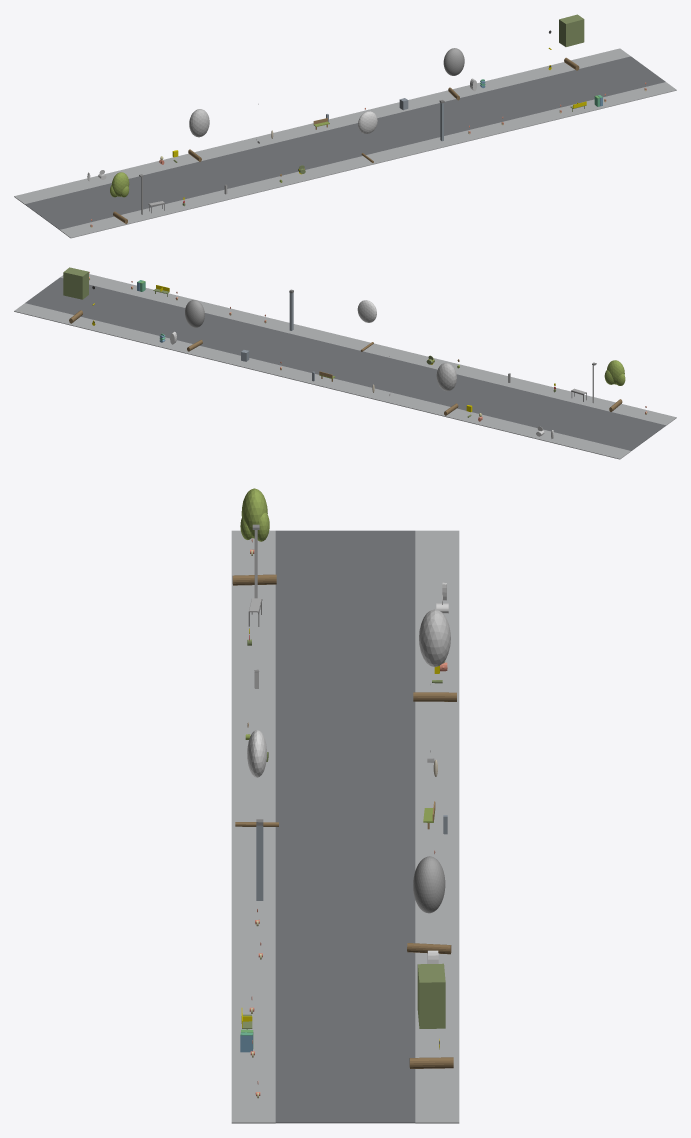
3 renders of one model, top to bottom at view 1: azimuth 30°, elevation 25°; view 2: azimuth 150°, elevation 25°; view 3: azimuth 270°, elevation 25°, orthographic. The views are drawn at different scales.
Visible parts, largest first — view 1: road_slab, sidewalk_left, sidewalk_right, inst_0016, inst_0015, inst_0013, inst_0012, inst_0014; view 2: road_slab, sidewalk_right, sidewalk_left, inst_0016, inst_0013, inst_0015, inst_0012, inst_0014; view 3: road_slab, sidewalk_left, sidewalk_right, inst_0016, inst_0013, inst_0015, inst_0012, inst_0014.
Boxes of the visible parts, x1,y1,x2,y2 form: road_slab: (25, 56, 665, 229); sidewalk_left: (60, 82, 676, 238); sidewalk_right: (14, 48, 630, 204); inst_0016: (559, 14, 584, 70); inst_0015: (443, 48, 464, 100); inst_0013: (188, 109, 209, 161); inst_0012: (110, 172, 129, 223); inst_0014: (358, 111, 377, 162); road_slab: (25, 277, 665, 450); sidewalk_right: (14, 303, 630, 459); sidewalk_left: (60, 274, 676, 425); inst_0016: (63, 267, 88, 323); inst_0013: (436, 362, 458, 415); inst_0015: (185, 300, 204, 351); inst_0012: (604, 360, 625, 411); inst_0014: (357, 300, 376, 351); road_slab: (275, 530, 415, 1123); sidewalk_left: (231, 530, 275, 1123); sidewalk_right: (415, 530, 459, 1123); inst_0016: (409, 963, 453, 1068); inst_0013: (413, 609, 456, 701); inst_0015: (407, 856, 451, 954); inst_0012: (232, 488, 276, 585); inst_0014: (235, 730, 278, 826).
Size of the model in its own units: 80 by 6.08 by 13.
